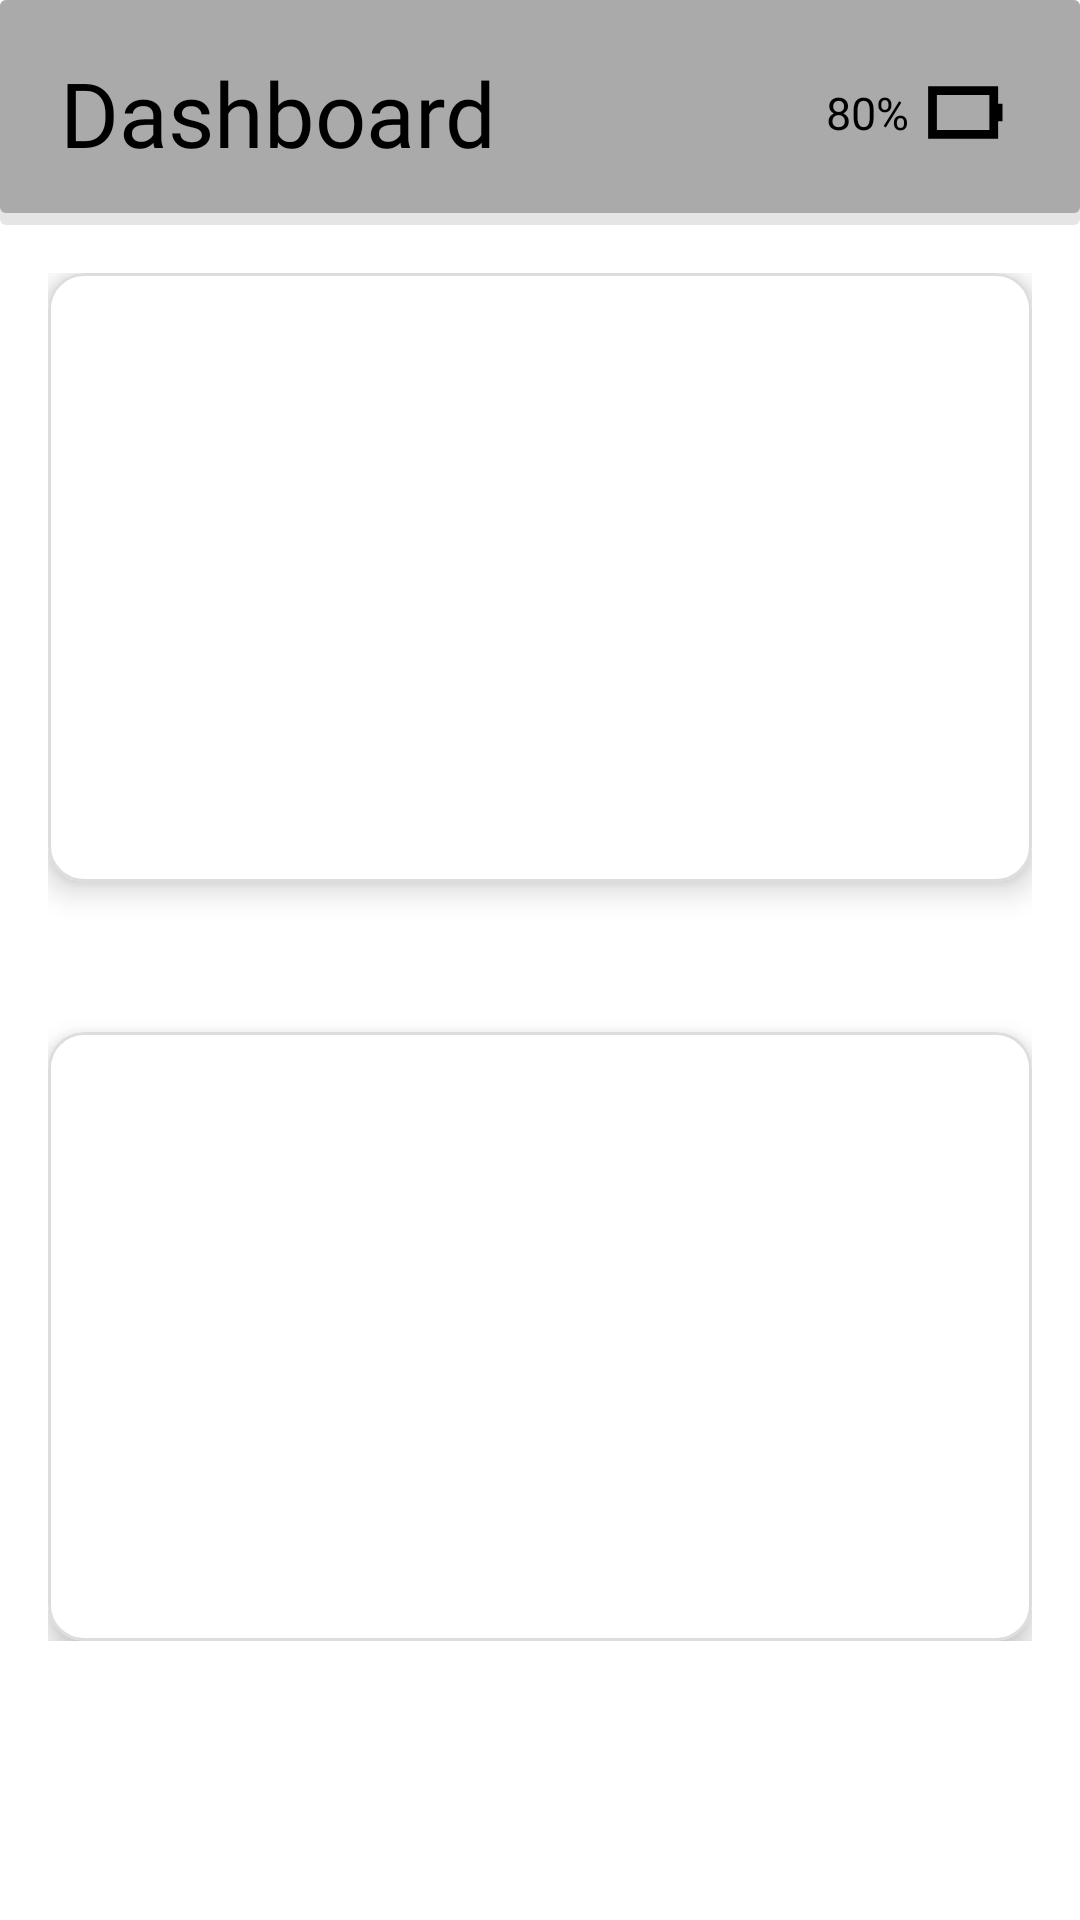

Screen size 1080 x 1920. Icon name, then its center in pixels as [x,y]:
batteryanimate: [965,112]
